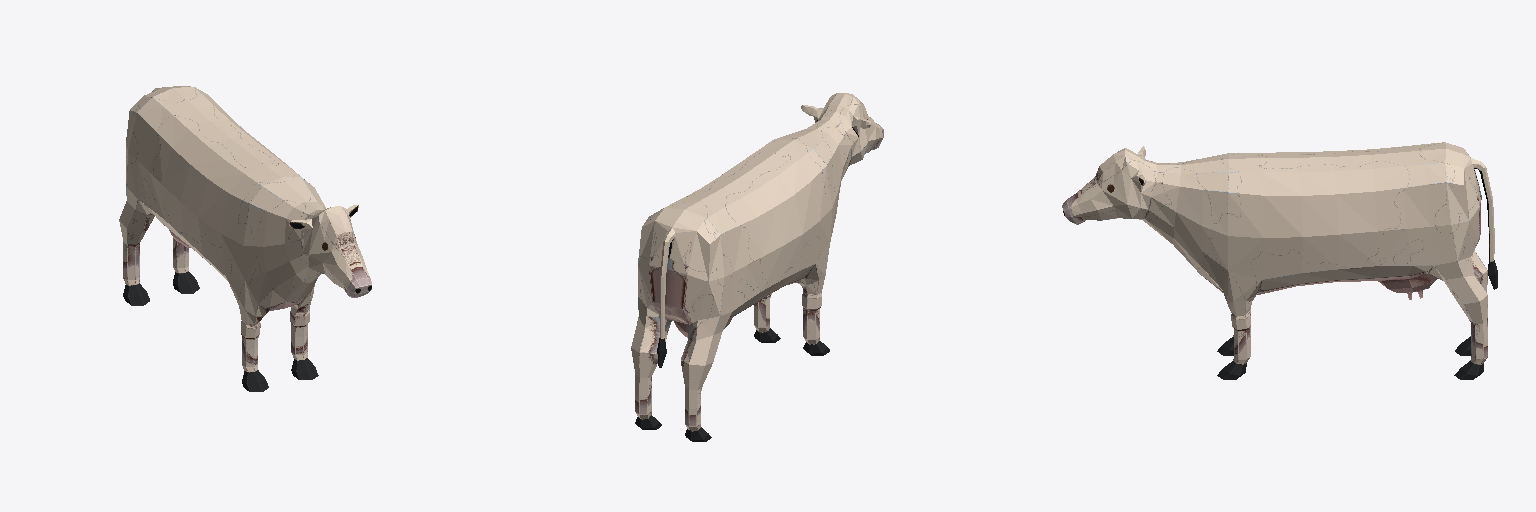
3 renders of one model, left to right at view 1: azimuth 30°, elevation 25°; view 2: azimuth 150°, elevation 25°; view 3: azimuth 270°, elevation 25°, orthographic.
Visible parts, largest first — view 1: Cow_mesh; view 2: Cow_mesh; view 3: Cow_mesh.
Boxes of the visible parts, x1=… form: Cow_mesh: x1=119, y1=86, x2=371, y2=391; Cow_mesh: x1=631, y1=93, x2=883, y2=441; Cow_mesh: x1=1062, y1=142, x2=1497, y2=379.
Size of the model in its own units: 3.36 by 7.42 by 13.65.
1 materials, 1 textured.